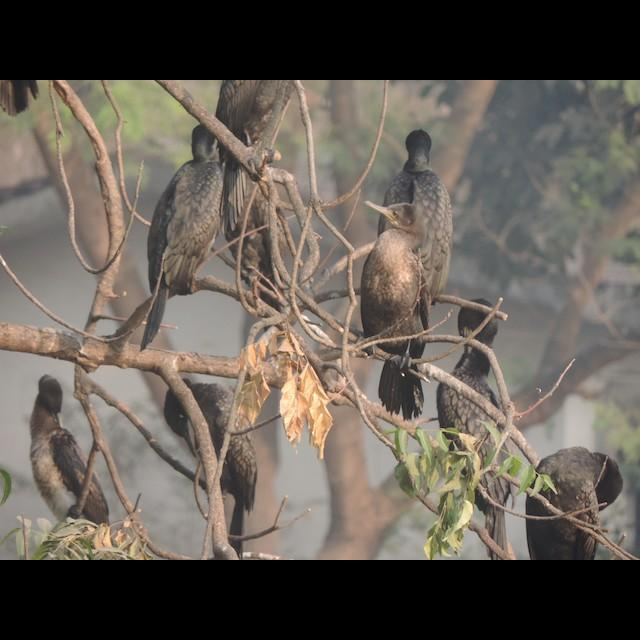cormorant: (131, 125, 221, 349), (356, 198, 426, 414), (26, 372, 110, 522)
